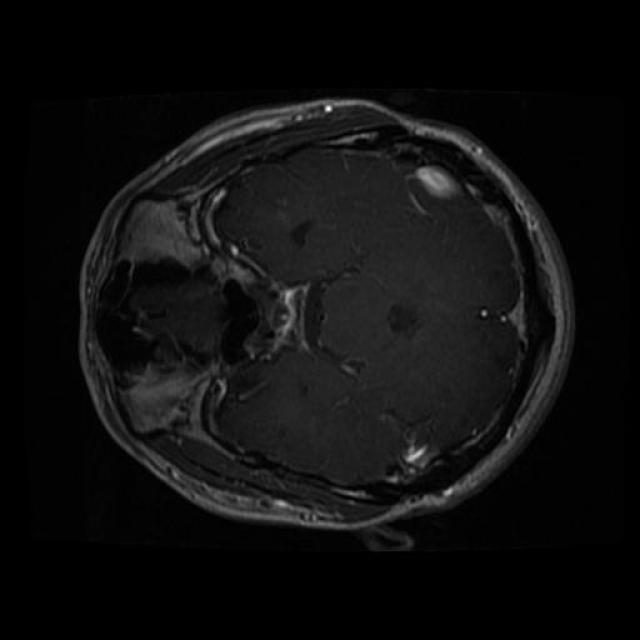Glioma: (184, 376, 280, 471)
